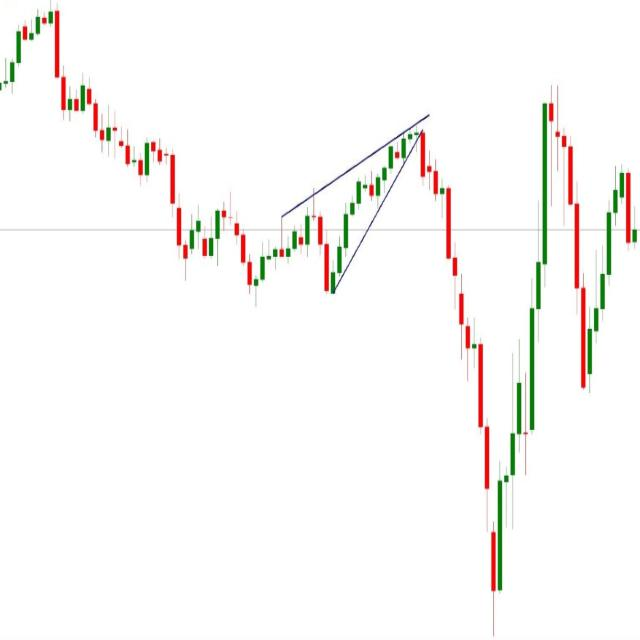Rising-Wedge: (216, 105, 439, 391)
